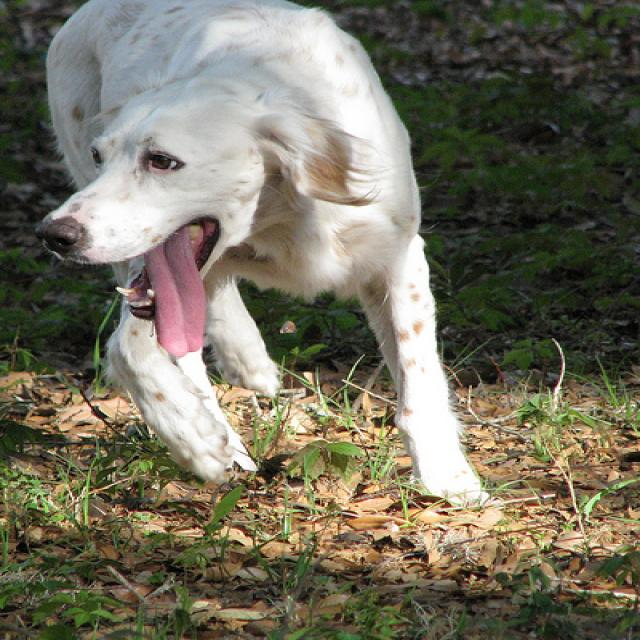dog: (34, 74, 363, 355)
